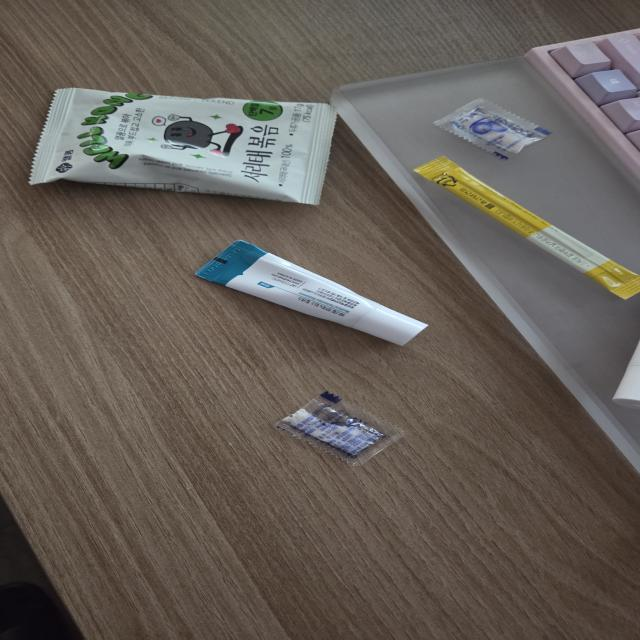lacto: (399, 149, 640, 303)
lip: (193, 238, 434, 349), (603, 314, 640, 419)
salt: (263, 389, 413, 468), (420, 90, 563, 167)
